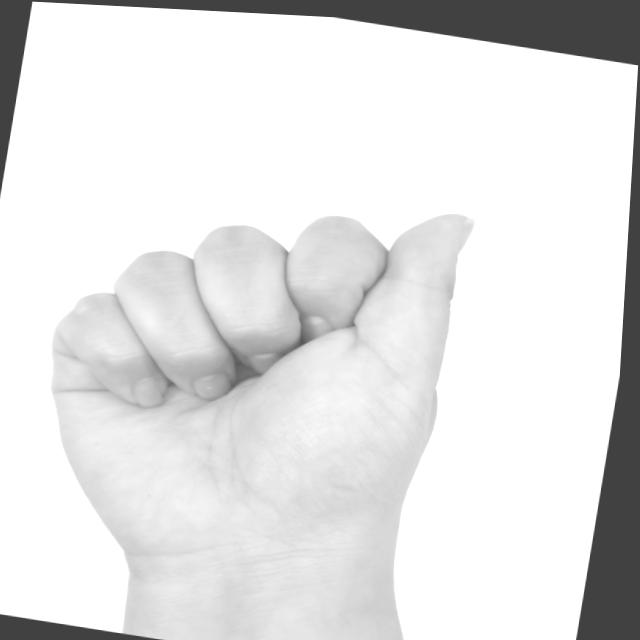A: (0, 135, 503, 630)
